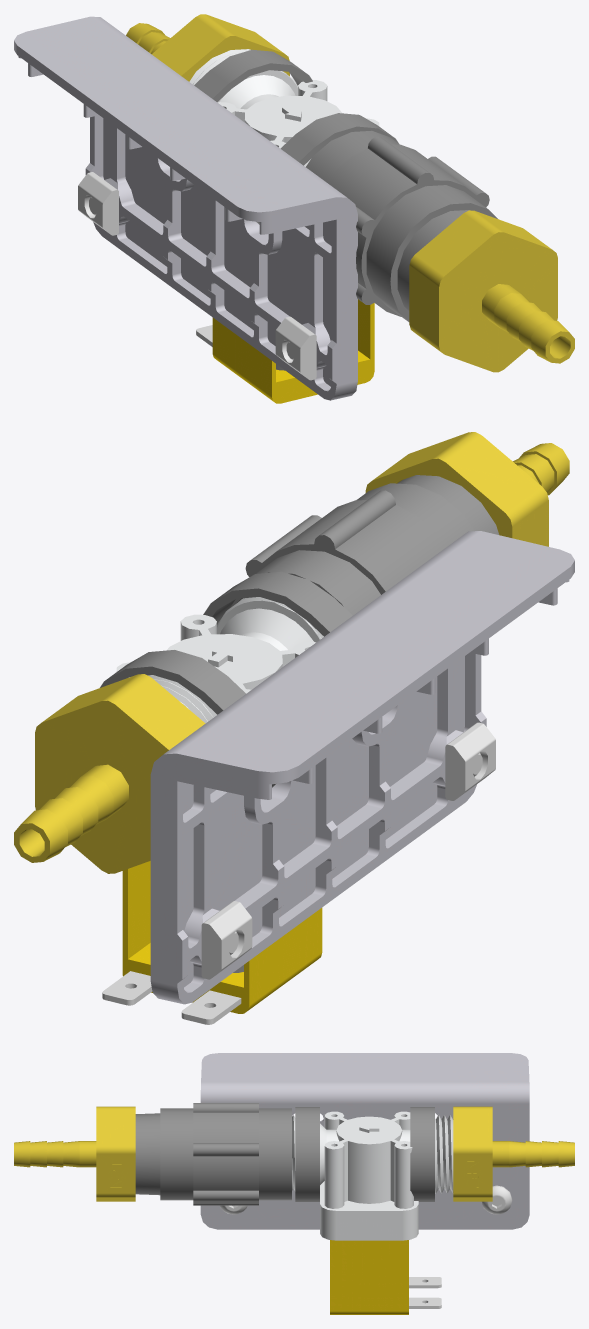
The model's file is solenoid.glb.
3 views of the same model, one above another, from view 1: azimuth 30°, elevation 25°; view 2: azimuth 150°, elevation 25°; view 3: azimuth 270°, elevation 25° (orthographic). The views are drawn at different scales.
Parts seen in each view (by area): view 1: 200mm Zip Tie; view 2: 200mm Zip Tie; view 3: 200mm Zip Tie.
Boxes of the visible parts, x1=… form: 200mm Zip Tie: x1=14, y1=14, x2=574, y2=403; 200mm Zip Tie: x1=14, y1=432, x2=574, y2=1024; 200mm Zip Tie: x1=14, y1=1053, x2=574, y2=1314.
Size of the model in its own units: 0.0545 by 0.066 by 0.1705.
1 material, 1 textured.
